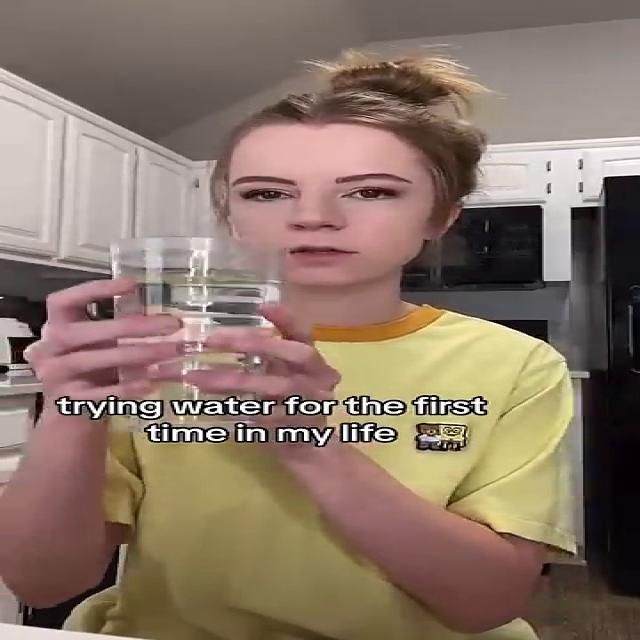Cup: (102, 236, 279, 420)
Hand: (191, 297, 353, 444), (15, 272, 182, 410)
Mouth: (289, 239, 361, 263)
